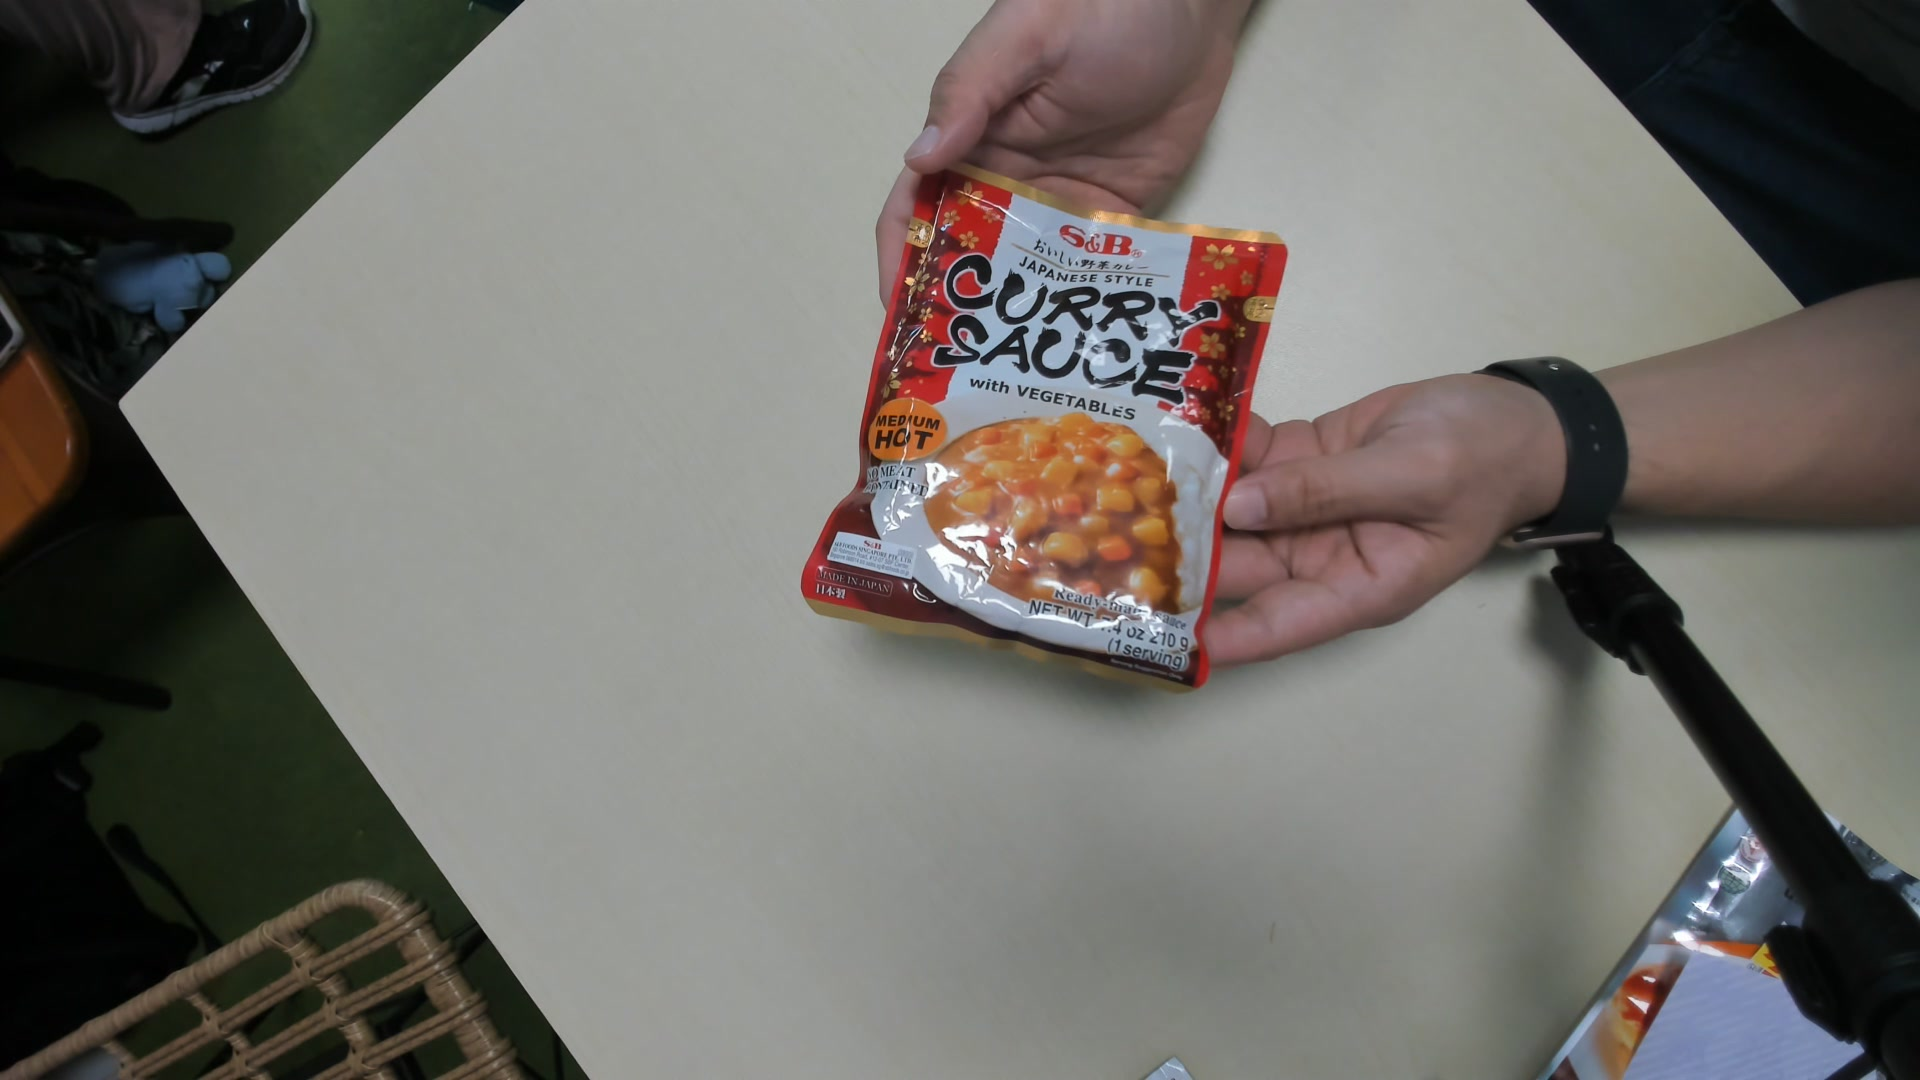CurryPastePowderSauce_200-299g_NonHalal_NonHealthy: (808, 169, 1288, 682)
